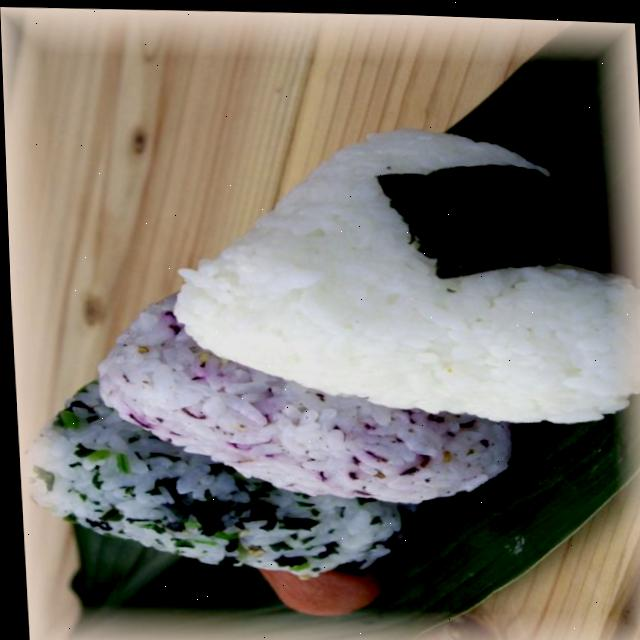米饭主食: (153, 98, 640, 435), (82, 266, 519, 513), (12, 362, 406, 580)
